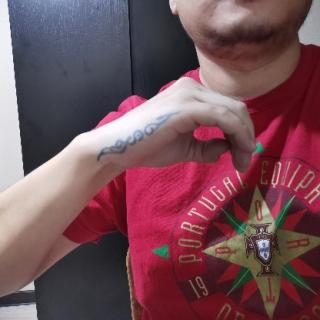JEEM: (76, 74, 262, 185)
